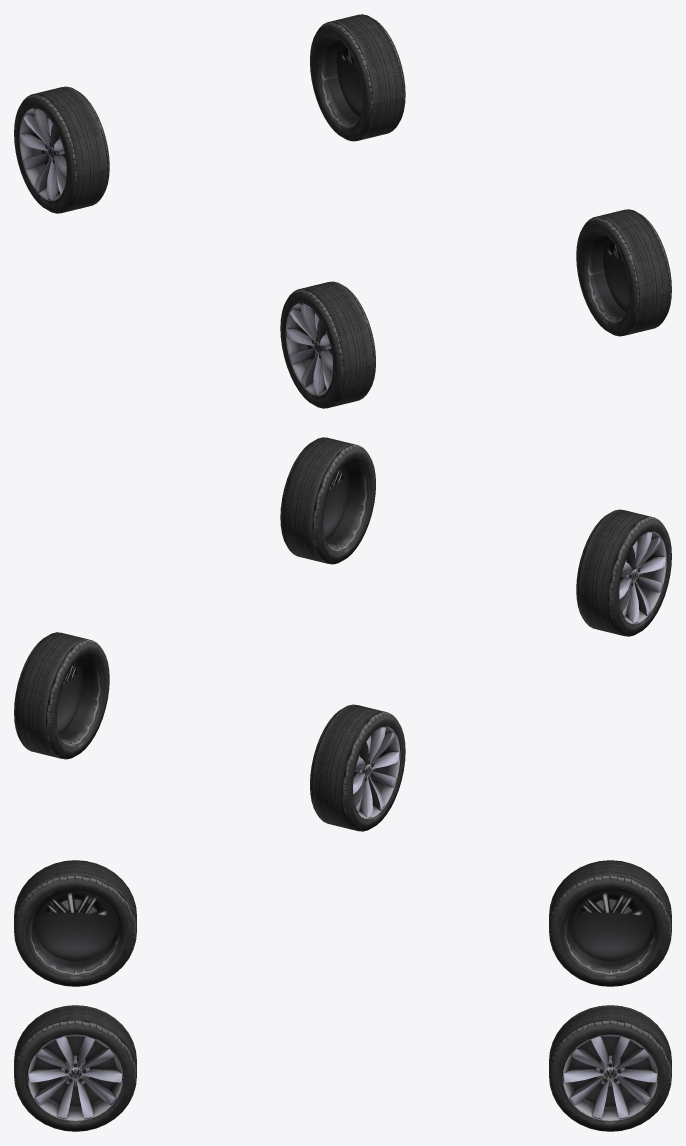
File: pchelun.FBX
3 renders of one model, top to bottom at view 1: azimuth 30°, elevation 25°; view 2: azimuth 150°, elevation 25°; view 3: azimuth 270°, elevation 25°, orthographic.
Visible parts, largest first — view 1: chelun01, chelun004, chelun002, chelun003; view 2: chelun01, chelun003, chelun004, chelun002; view 3: chelun01, chelun003, chelun004, chelun002.
Boxes of the visible parts, bbox=[...] form: chelun01: bbox=[280, 281, 375, 408]; chelun004: bbox=[576, 209, 671, 336]; chelun002: bbox=[14, 86, 109, 213]; chelun003: bbox=[310, 14, 405, 141]; chelun01: bbox=[576, 509, 671, 636]; chelun003: bbox=[14, 632, 109, 759]; chelun004: bbox=[280, 437, 375, 564]; chelun002: bbox=[310, 704, 405, 831]; chelun01: bbox=[14, 860, 136, 986]; chelun003: bbox=[549, 1005, 671, 1131]; chelun004: bbox=[14, 1005, 136, 1131]; chelun002: bbox=[549, 860, 671, 986].
Bounding box in the file's own units: 1026 × 326 × 1745.
